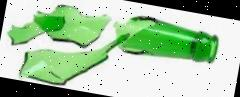glass: (108, 9, 222, 74)
